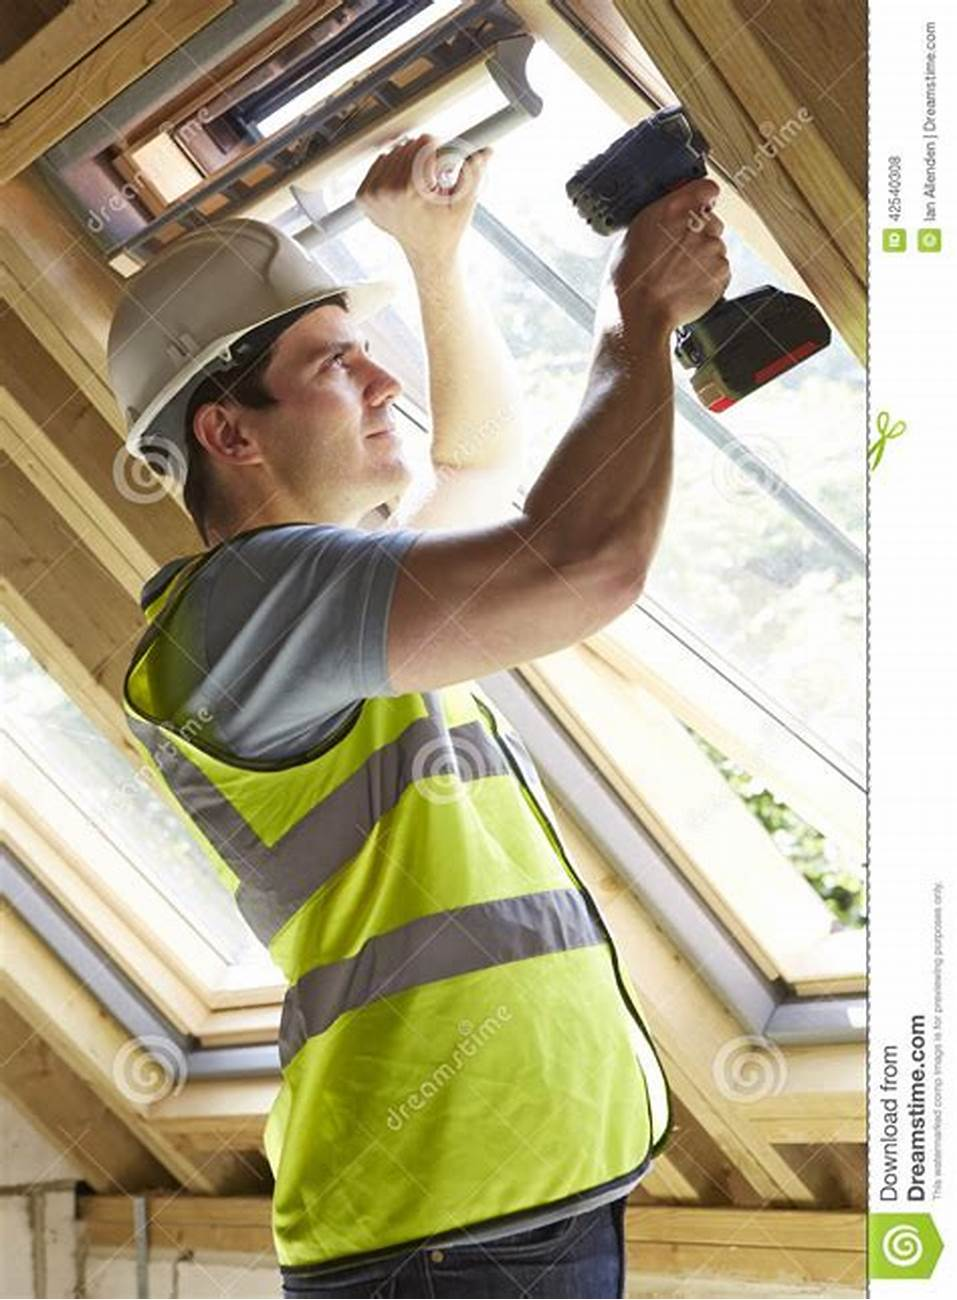safetyhat: (95, 149, 722, 1263)
